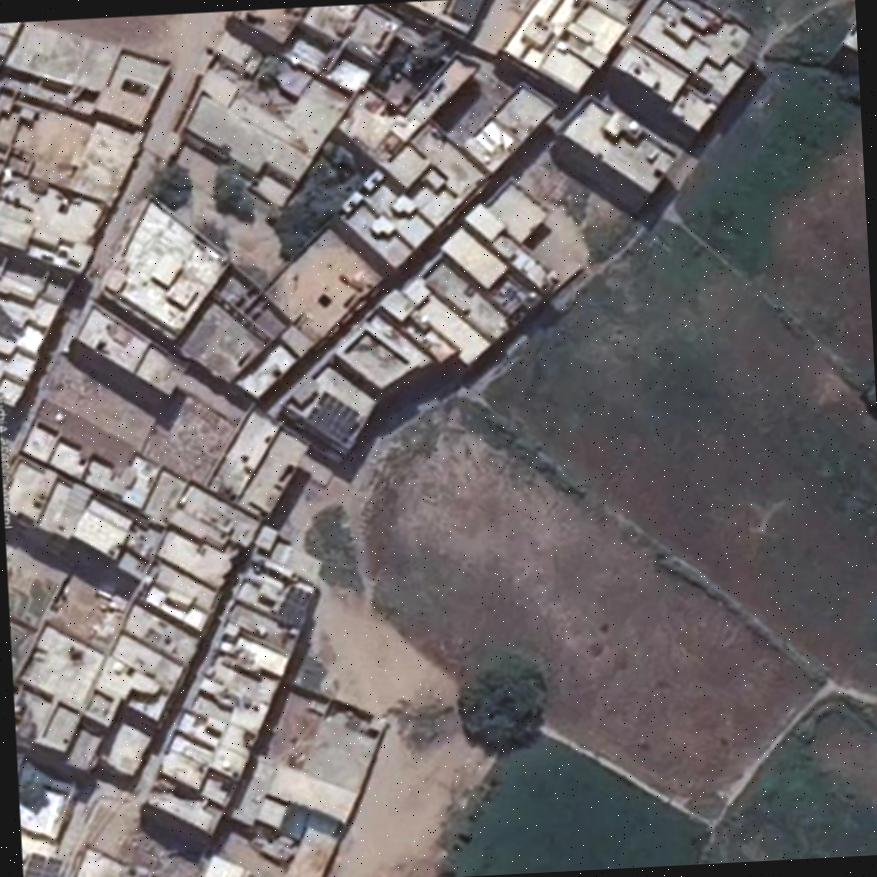Solarpanel: (304, 392, 361, 440), (25, 855, 60, 877)
